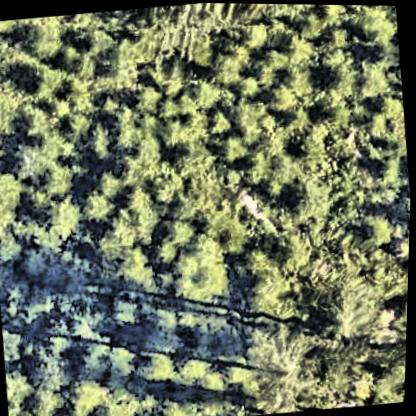tree-top: (234, 319, 329, 416), (305, 263, 382, 341), (164, 230, 235, 309), (239, 254, 310, 325), (24, 336, 82, 398), (49, 186, 107, 239), (112, 185, 160, 248), (38, 191, 88, 241), (19, 15, 70, 63), (308, 85, 358, 133), (206, 39, 255, 86), (9, 139, 54, 187), (24, 56, 68, 105), (66, 373, 114, 416), (350, 57, 397, 99), (350, 4, 398, 45), (291, 122, 334, 166), (210, 110, 248, 159), (231, 93, 272, 138), (5, 361, 38, 416), (77, 181, 120, 223), (0, 168, 27, 234), (114, 243, 157, 284), (279, 28, 321, 69), (207, 215, 249, 256), (283, 174, 325, 214), (20, 99, 61, 139), (68, 304, 112, 340), (138, 345, 178, 384), (15, 241, 54, 281), (160, 393, 227, 416), (84, 116, 119, 159), (2, 319, 30, 371), (162, 211, 200, 248), (373, 150, 409, 188), (265, 78, 301, 114), (252, 3, 324, 21), (112, 293, 148, 328), (364, 211, 399, 247), (240, 148, 274, 184), (259, 127, 293, 160), (14, 394, 65, 416), (296, 8, 327, 42), (205, 105, 237, 137), (221, 132, 252, 165), (0, 24, 20, 74), (254, 59, 281, 87), (262, 172, 289, 196), (392, 227, 411, 261)
